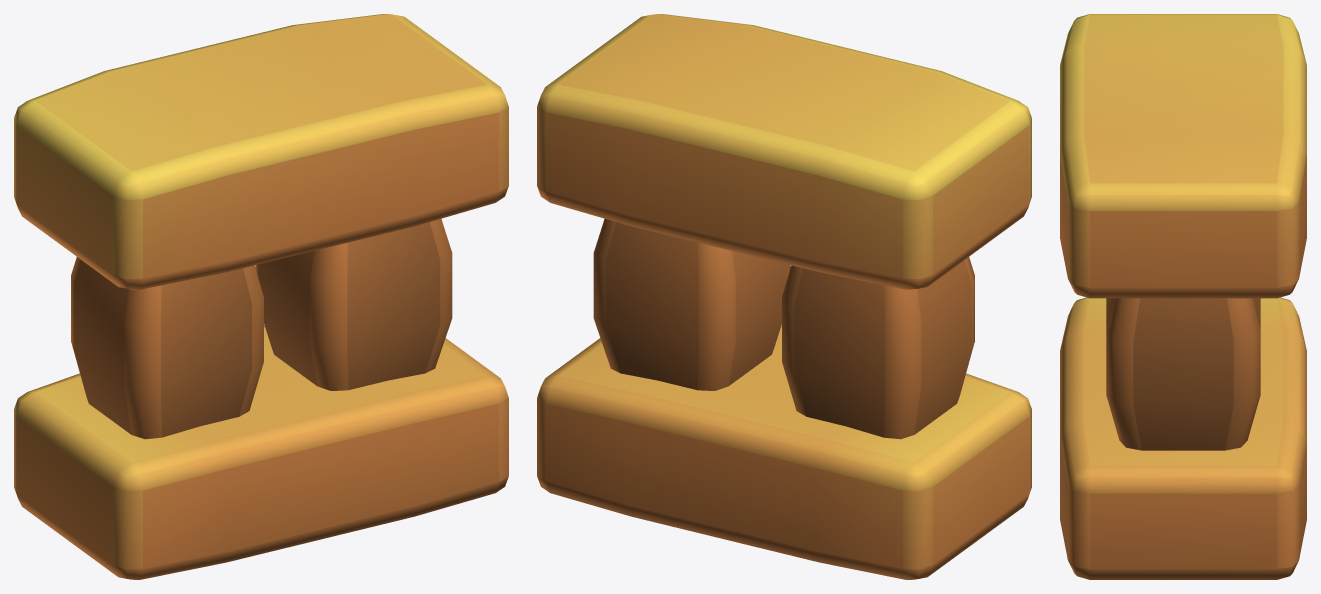
File: rail1_stone.fbx
3 views of the same model, side by side, from view 1: azimuth 30°, elevation 25°; view 2: azimuth 150°, elevation 25°; view 3: azimuth 270°, elevation 25° (orthographic). The views are drawn at different scales.
Visible parts, largest first — view 1: rail1_stone; view 2: rail1_stone; view 3: rail1_stone.
Boxes of the visible parts, x1=… form: rail1_stone: x1=14, y1=14, x2=508, y2=579; rail1_stone: x1=537, y1=14, x2=1031, y2=579; rail1_stone: x1=1060, y1=14, x2=1306, y2=579.
Bounding box in the file's own units: 106 × 106 × 59.08.
